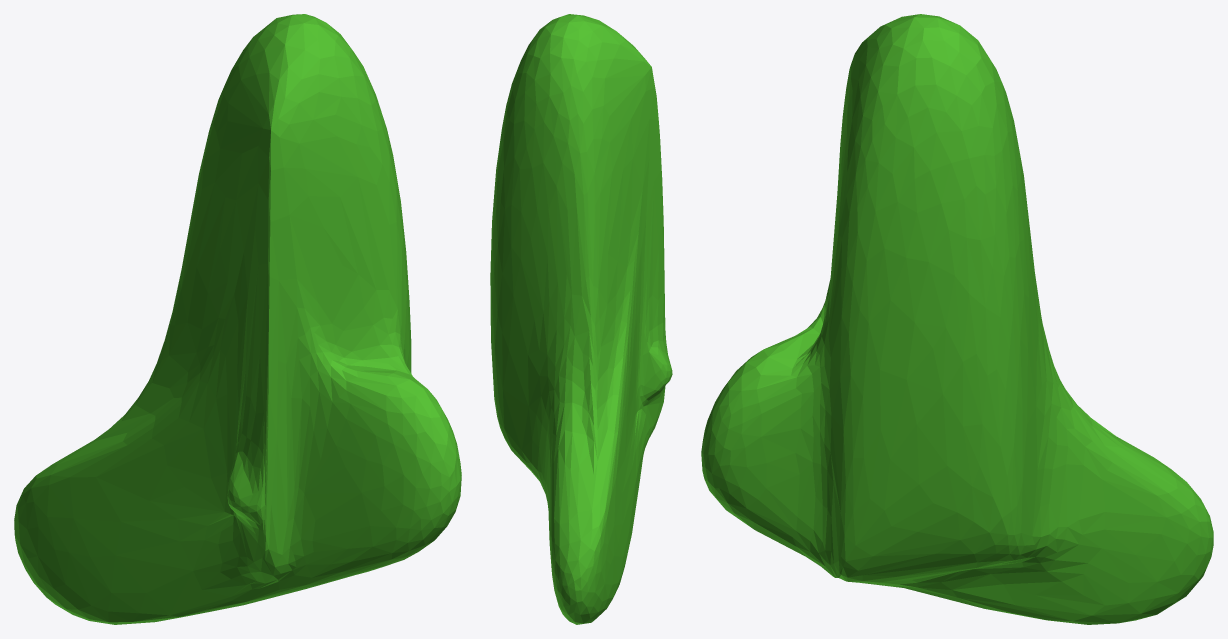
The picture shows the model from 3 angles, left to right: view 1: azimuth 30°, elevation 25°; view 2: azimuth 150°, elevation 25°; view 3: azimuth 270°, elevation 25°; orthographic projection. The views are drawn at different scales.
Visible parts, largest first — view 1: 664_Cube.2670; view 2: 664_Cube.2670; view 3: 664_Cube.2670.
Part boxes in pixels (left/top/right/bottom): 664_Cube.2670: left=14, top=14, right=461, bottom=624; 664_Cube.2670: left=490, top=14, right=672, bottom=624; 664_Cube.2670: left=701, top=14, right=1213, bottom=624.
Bounding box in the file's own units: 5.31 × 13.58 × 9.6.
